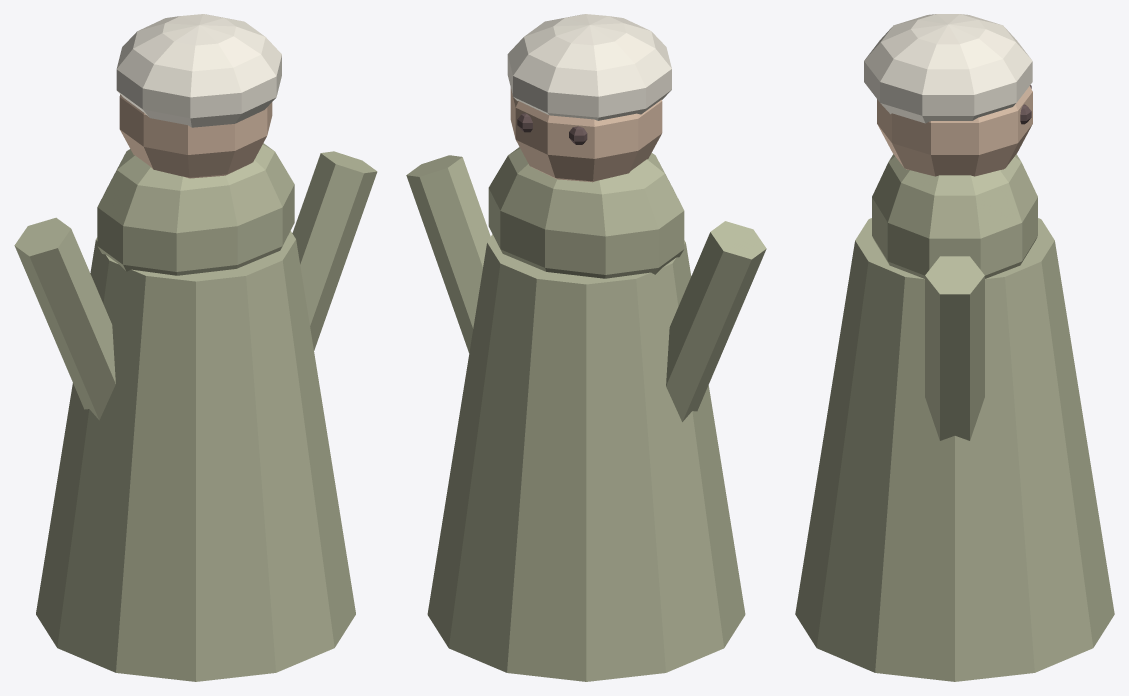
The model's file is neighbor.glb.
3 renders of one model, left to right at view 1: azimuth 30°, elevation 25°; view 2: azimuth 150°, elevation 25°; view 3: azimuth 270°, elevation 25°, orthographic.
Parts seen in each view (by area): view 1: neighbor; view 2: neighbor; view 3: neighbor.
Part boxes in pixels (x1,y1,x2,y2): neighbor: (14, 14, 377, 681); neighbor: (406, 14, 766, 681); neighbor: (795, 14, 1114, 681).
Bounding box in the file's own units: 0.6021 × 0.978 × 0.48.
